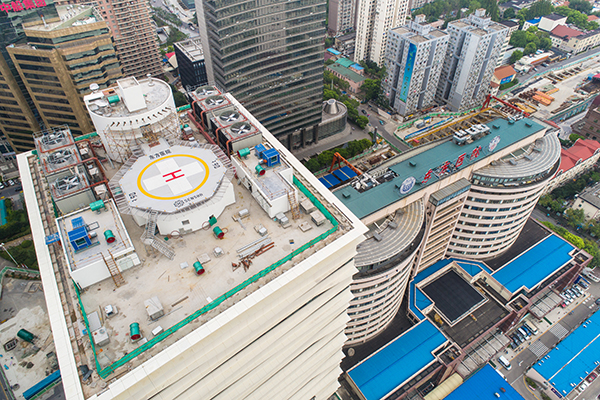Apron: (138, 155, 208, 201)
